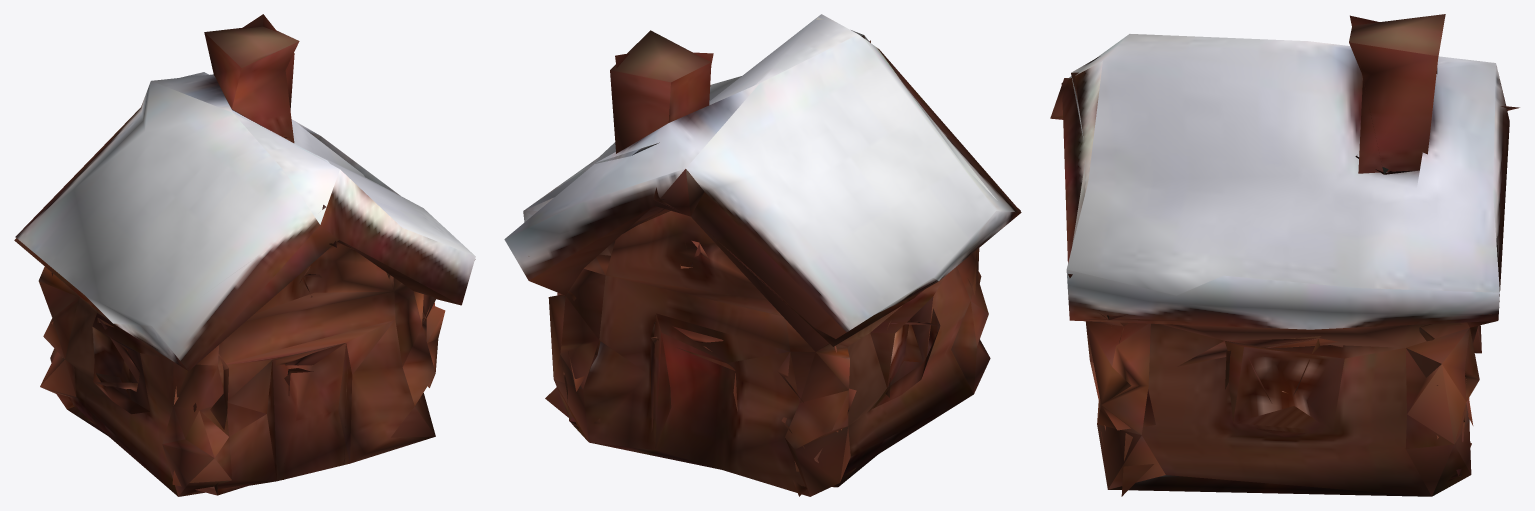
File: lg-snow-cabin.glb
The picture shows the model from 3 angles, left to right: view 1: azimuth 30°, elevation 25°; view 2: azimuth 150°, elevation 25°; view 3: azimuth 270°, elevation 25°; orthographic projection. The views are drawn at different scales.
Visible parts, largest first — view 1: geometry_0; view 2: geometry_0; view 3: geometry_0.
Boxes of the visible parts, x1,y1,x2,y2 form: geometry_0: [14, 14, 475, 496]; geometry_0: [504, 14, 1021, 496]; geometry_0: [1050, 14, 1519, 496].
Size of the model in its own units: 0.9349 by 1 by 0.9779.
1 material, 1 textured.
